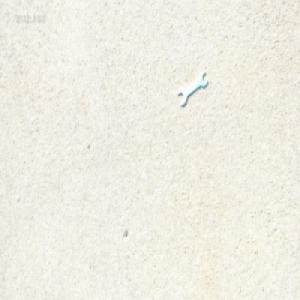Wrench: (178, 72, 207, 107)
